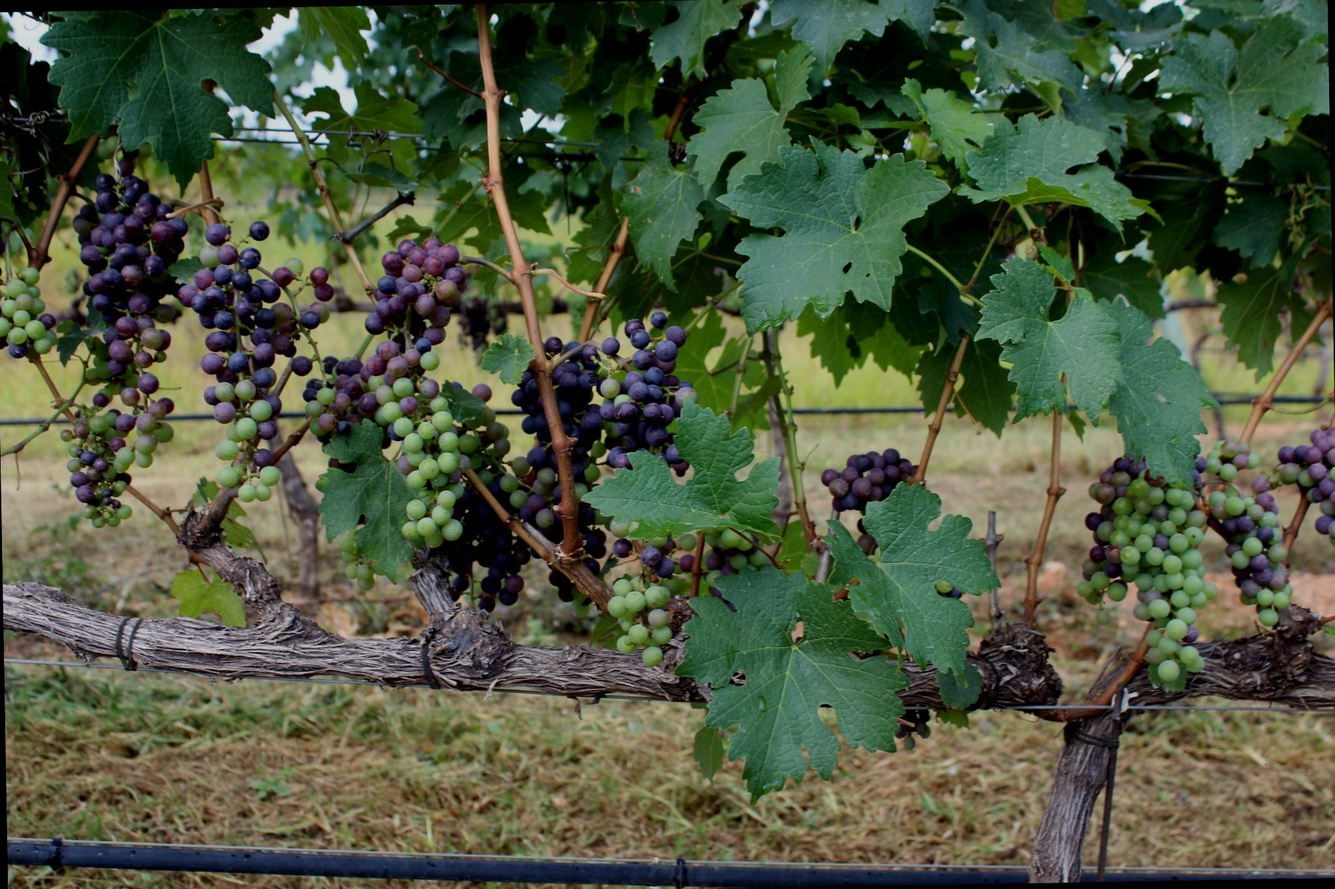Grape Ripe: (588, 309, 696, 471), (826, 452, 927, 511)
Grape Unripe: (363, 228, 475, 553), (1079, 445, 1213, 687), (1172, 433, 1282, 632), (62, 406, 138, 530), (598, 569, 672, 664), (0, 268, 55, 353)
